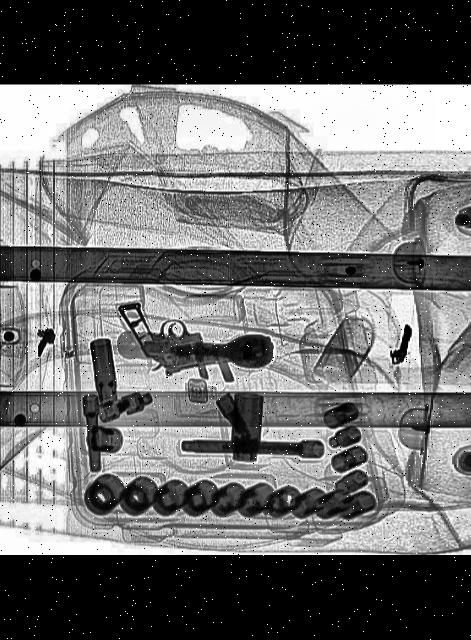Gun: (119, 282, 272, 379)
